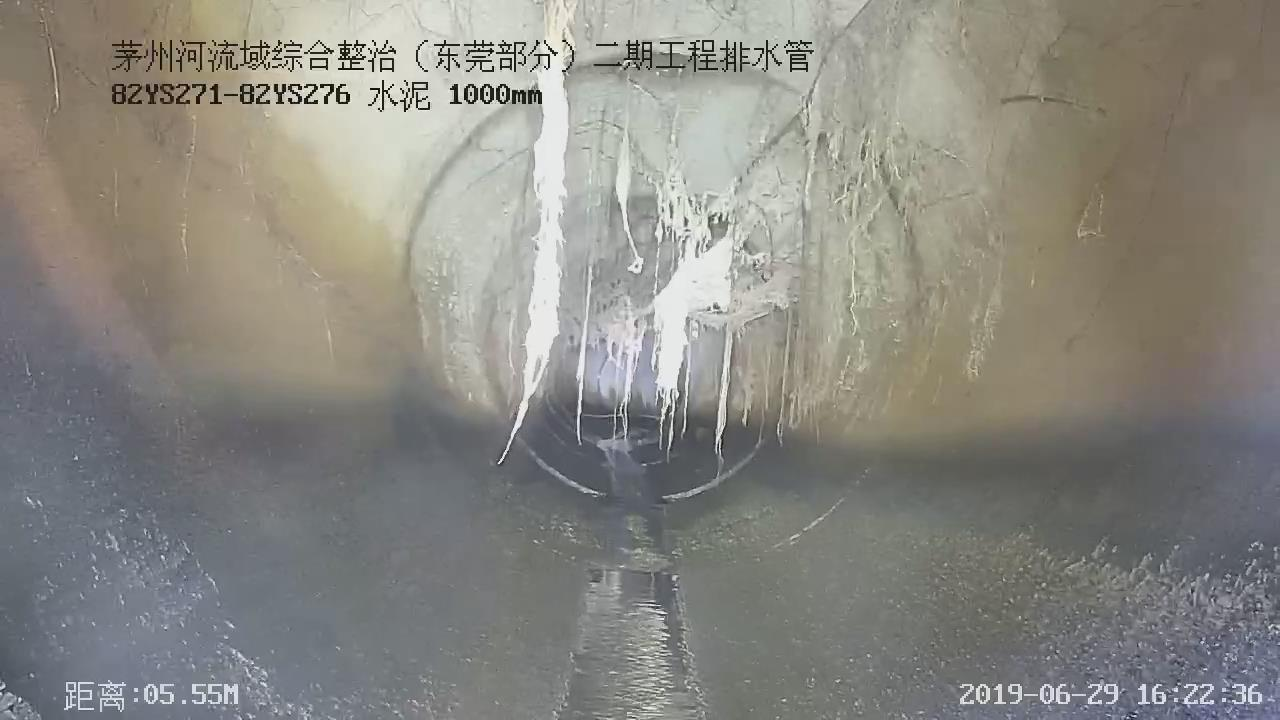SG: (486, 0, 1022, 486)
